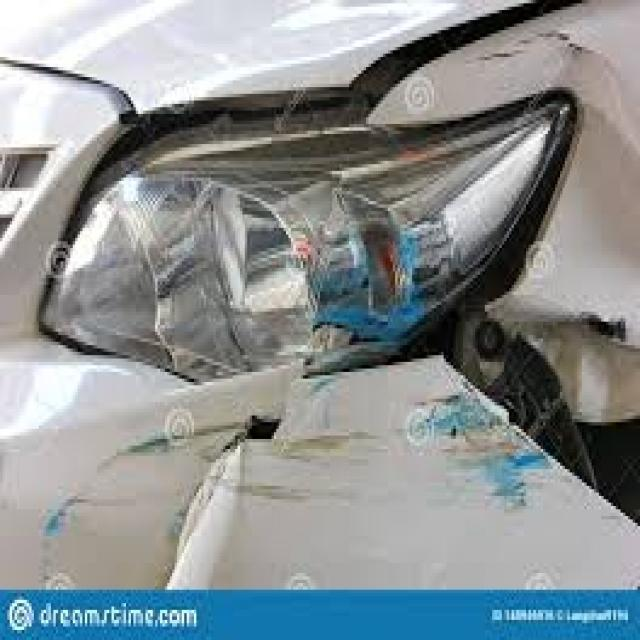damaged-head-light: (70, 94, 600, 402)
